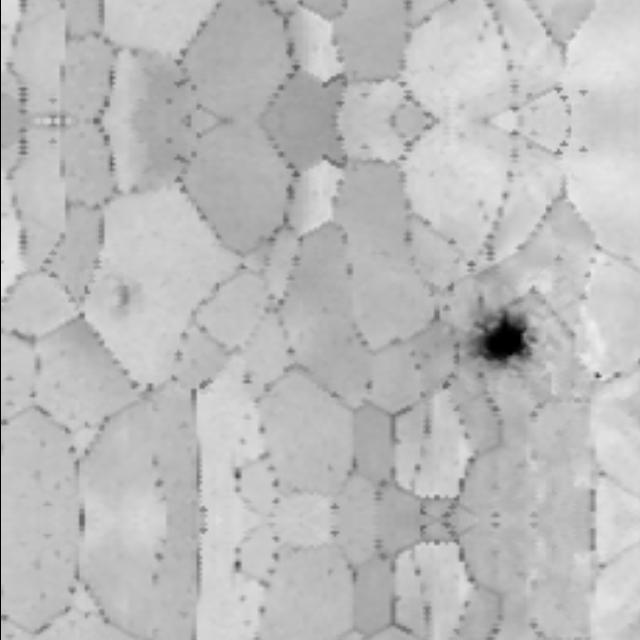good_void: (465, 291, 539, 371), (101, 266, 148, 324)
